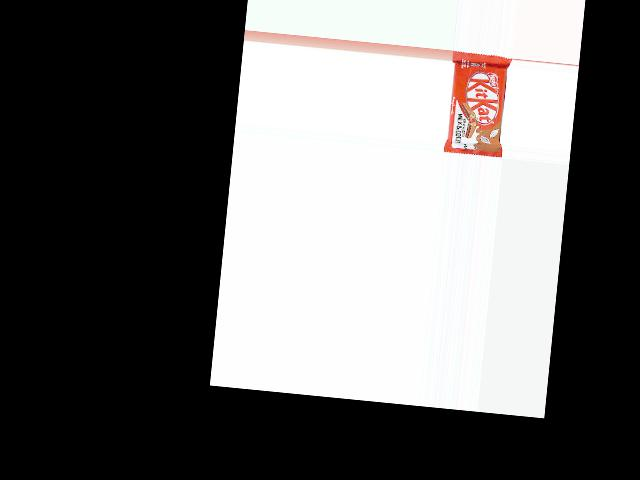chocolate: (442, 51, 511, 158)
